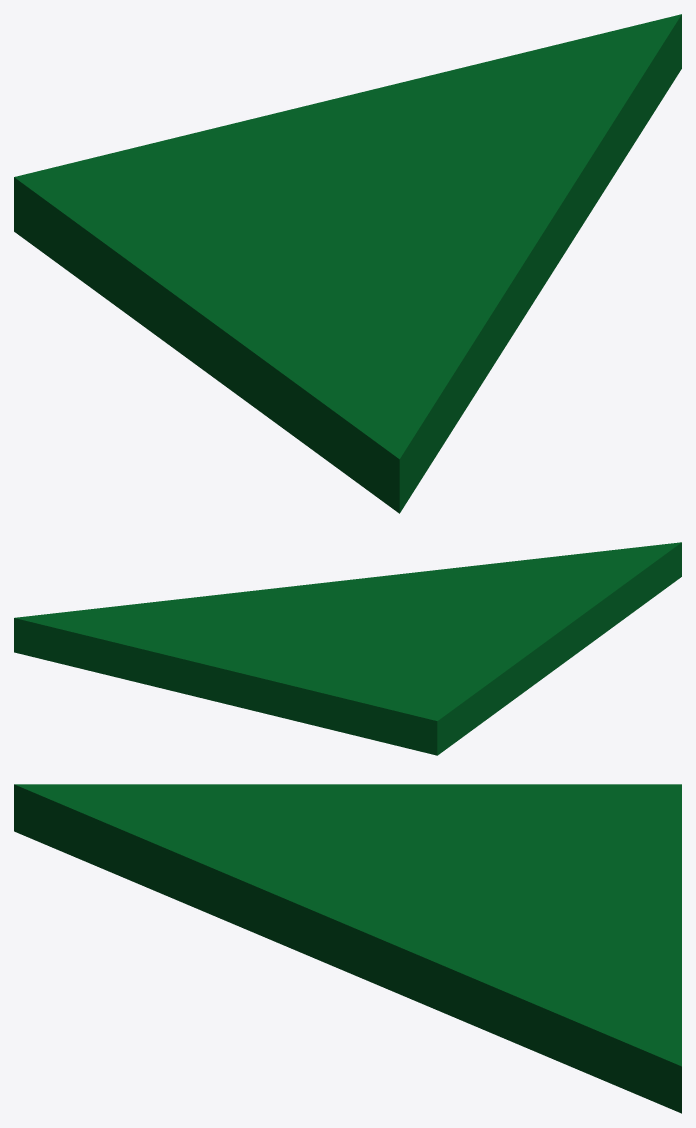
Rendered from tile1_corner.fbx.
3 renders of one model, top to bottom at view 1: azimuth 30°, elevation 25°; view 2: azimuth 150°, elevation 25°; view 3: azimuth 270°, elevation 25°, orthographic. The views are drawn at different scales.
Visible parts, largest first — view 1: Cube.004; view 2: Cube.004; view 3: Cube.004.
Part boxes in pixels (left/top/right/bottom): Cube.004: left=14, top=14, right=681, bottom=513; Cube.004: left=14, top=542, right=681, bottom=755; Cube.004: left=14, top=784, right=681, bottom=1113.
Size of the model in its own units: 200 by 15.58 by 200.
